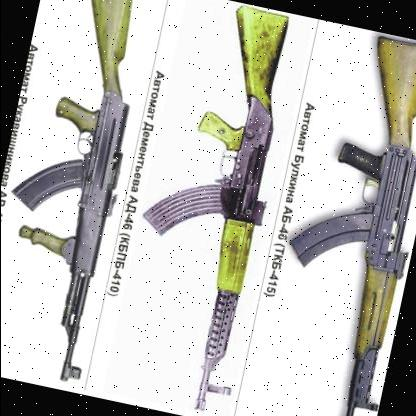rifle: (110, 0, 315, 415), (251, 23, 416, 416), (0, 0, 165, 383)
